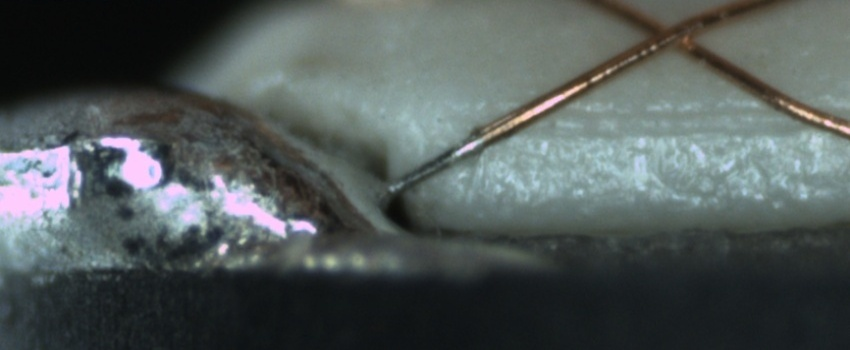CL: (626, 5, 715, 63)
DL: (479, 91, 849, 157)
TS: (389, 134, 488, 195)
TTCW: (371, 103, 542, 203)
